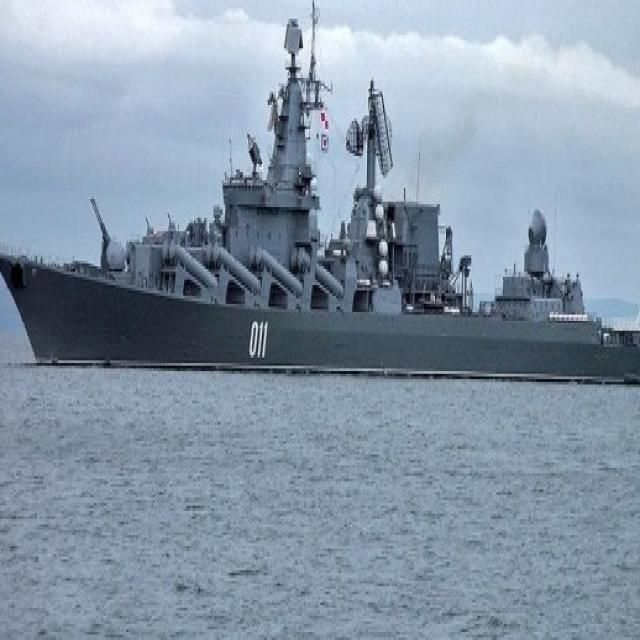navalvessels: (0, 24, 640, 409)
